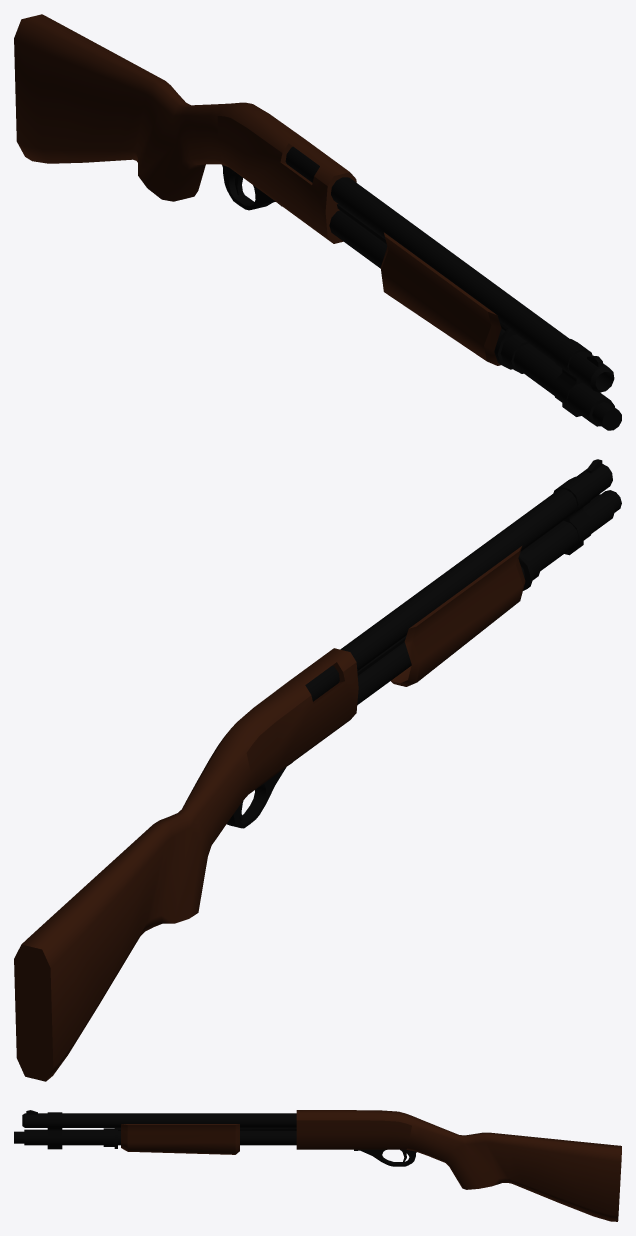
The model's file is shotgun.FBX.
3 views of the same model, one above another, from view 1: azimuth 30°, elevation 25°; view 2: azimuth 150°, elevation 25°; view 3: azimuth 270°, elevation 25° (orthographic). The views are drawn at different scales.
Visible parts, largest first — view 1: Box001; view 2: Box001; view 3: Box001.
Boxes of the visible parts, left/top/right/bottom form: Box001: left=14, top=14, right=621, bottom=430; Box001: left=14, top=459, right=621, bottom=1081; Box001: left=14, top=1110, right=621, bottom=1221.
Bounding box in the file's own units: 24.79 × 117 × 594.
